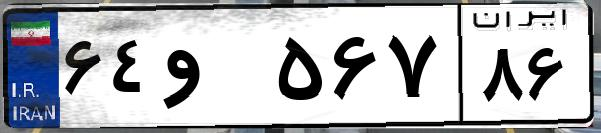4: (110, 28, 158, 98)
5: (270, 28, 330, 110)
6: (330, 28, 385, 110), (57, 26, 110, 100), (525, 38, 570, 115)
7: (385, 28, 445, 110)
8: (475, 38, 525, 113)
و: (158, 20, 270, 120)
